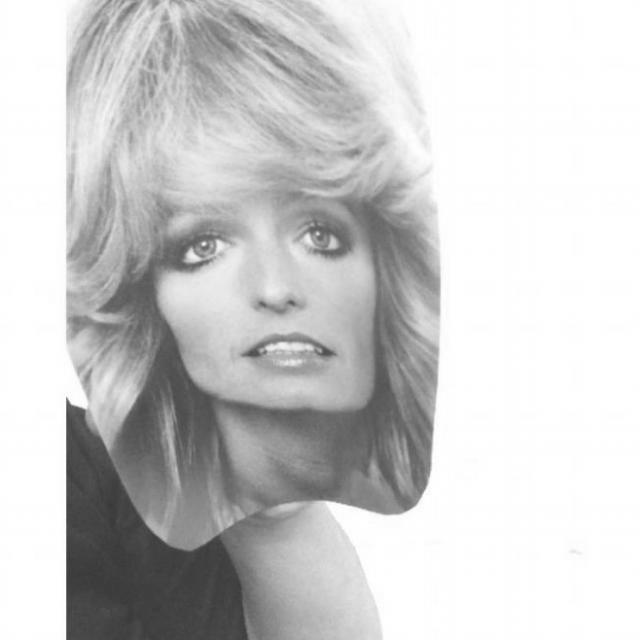fake: (68, 0, 450, 545)
